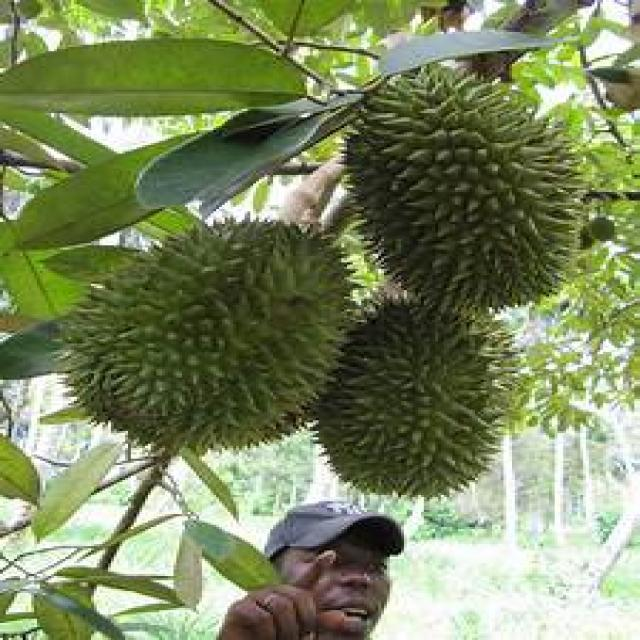immature: (66, 211, 358, 455), (347, 58, 590, 310), (313, 296, 531, 500)
